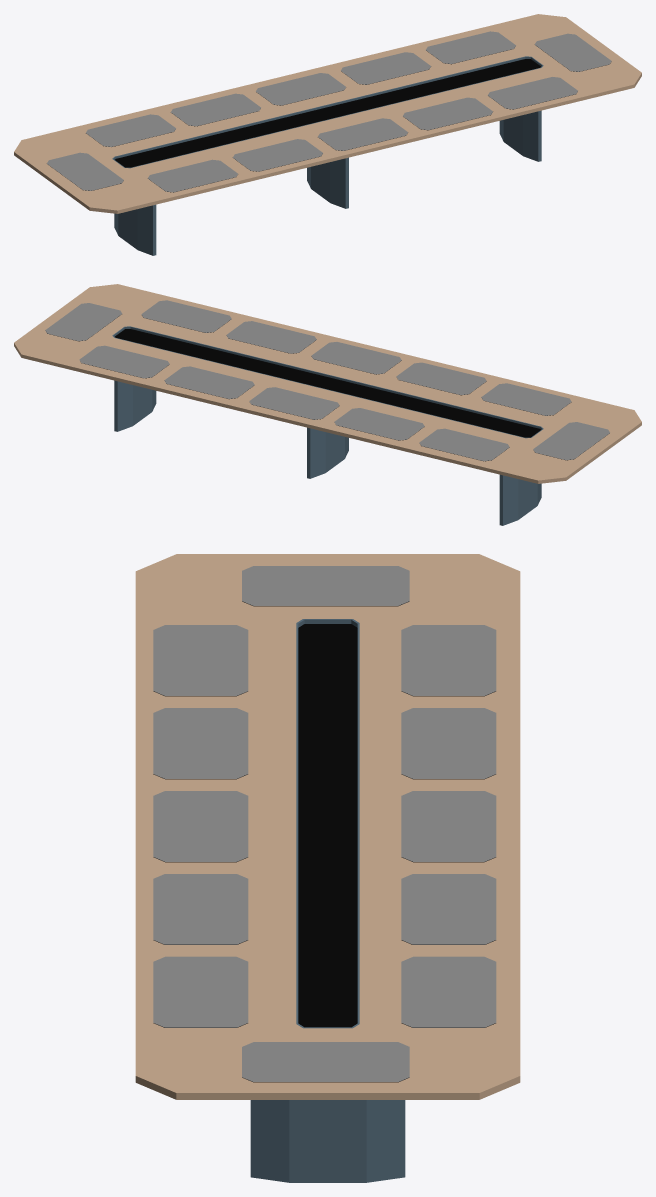
File: Meeting Table Large.fbx
3 renders of one model, top to bottom at view 1: azimuth 30°, elevation 25°; view 2: azimuth 150°, elevation 25°; view 3: azimuth 270°, elevation 25°, orthographic. The views are drawn at different scales.
Visible parts, largest first — view 1: Meeting_Table_Large, Desk_mat; view 2: Meeting_Table_Large, Desk_mat; view 3: Meeting_Table_Large, Desk_mat.
Part boxes in pixels (x1,y1,x2,y2): Meeting_Table_Large: (14,14,641,255); Desk_mat: (47,31,611,192); Meeting_Table_Large: (14,284,641,525); Desk_mat: (45,300,609,461); Meeting_Table_Large: (135,554,520,1182); Desk_mat: (153,566,496,1082).
Bounding box in the file's own units: 530 × 75.48 × 160.
